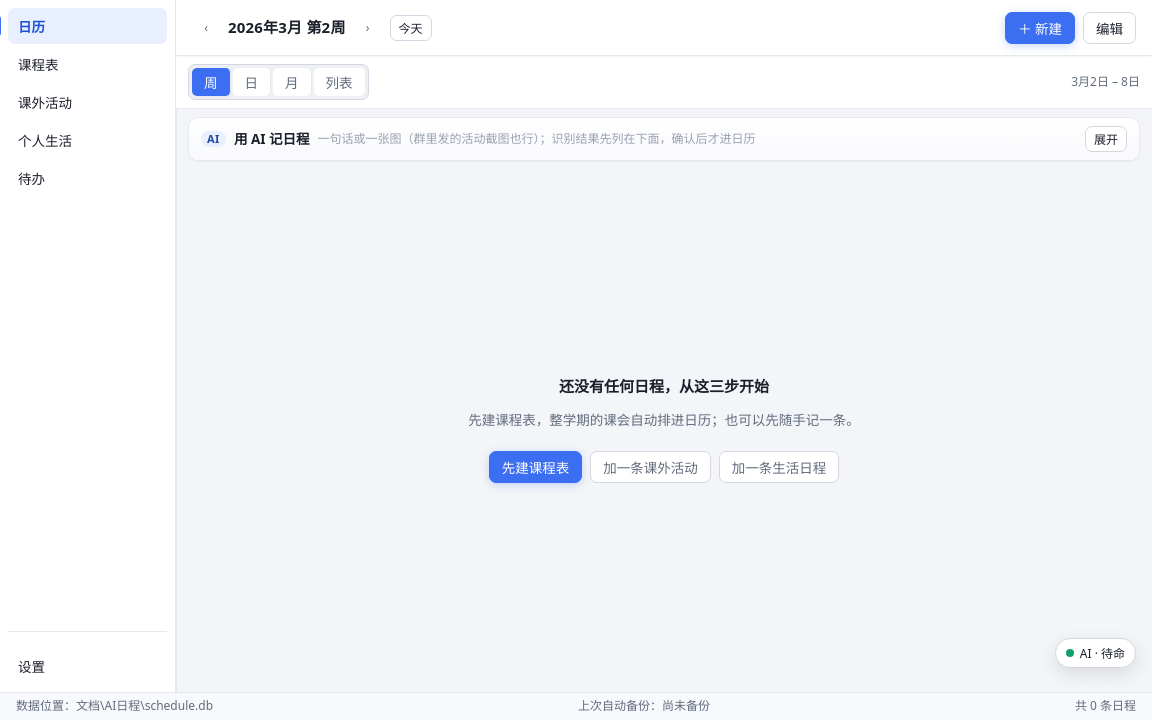
Scenario: 反馈 #1：课程表页新建的课程要立刻显示在课表格里 › 在课表格里双击新建课程后，格子里出现这门课
Click the button "课程表" at (88, 64), box [8,46,167,82]
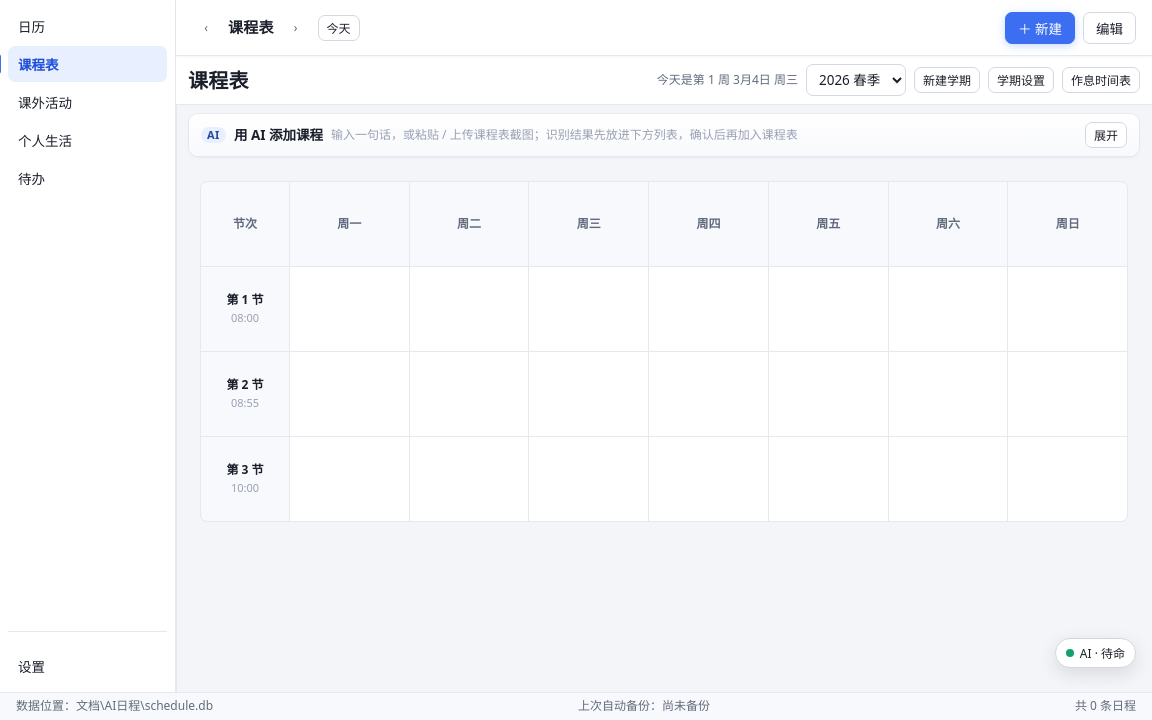
Expected: the element with test id "course-table" is shown, [200,181,1128,522]
Double-click the element with test id "cell-3-2" at (589, 394), box [529,352,648,436]
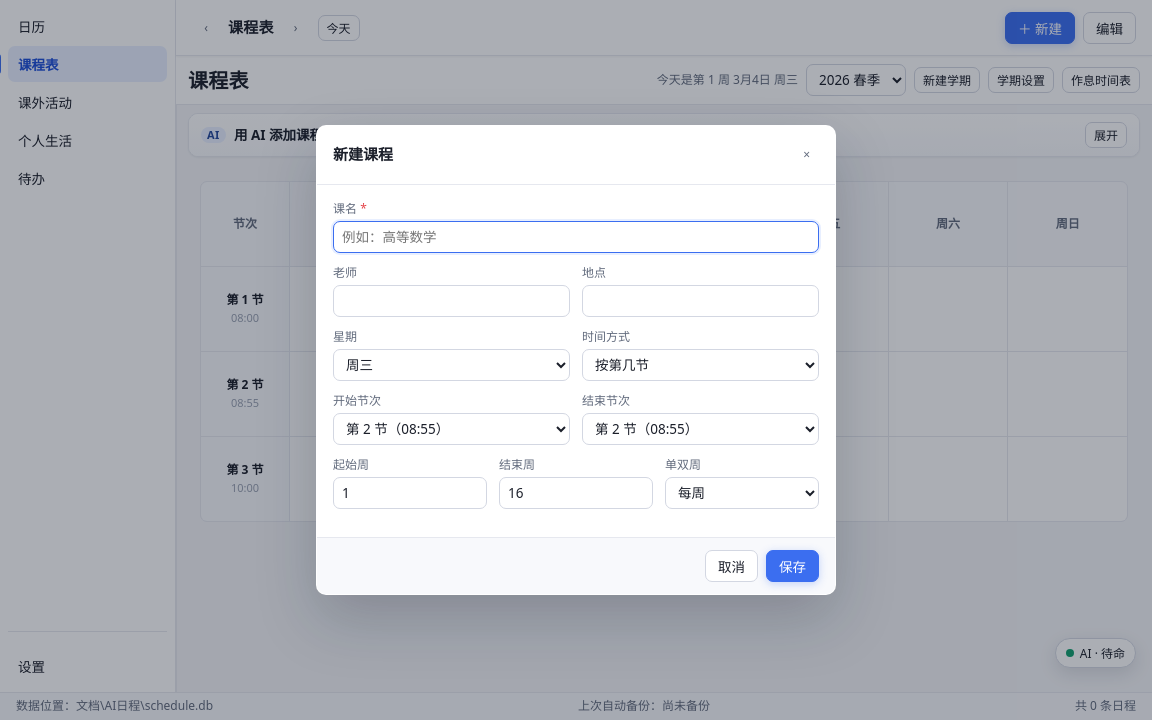
Expected: the dialog is shown, [316,124,836,595]
Type "线性代数" into the field labelled "课名" at (576, 237), box [333,221,819,253]
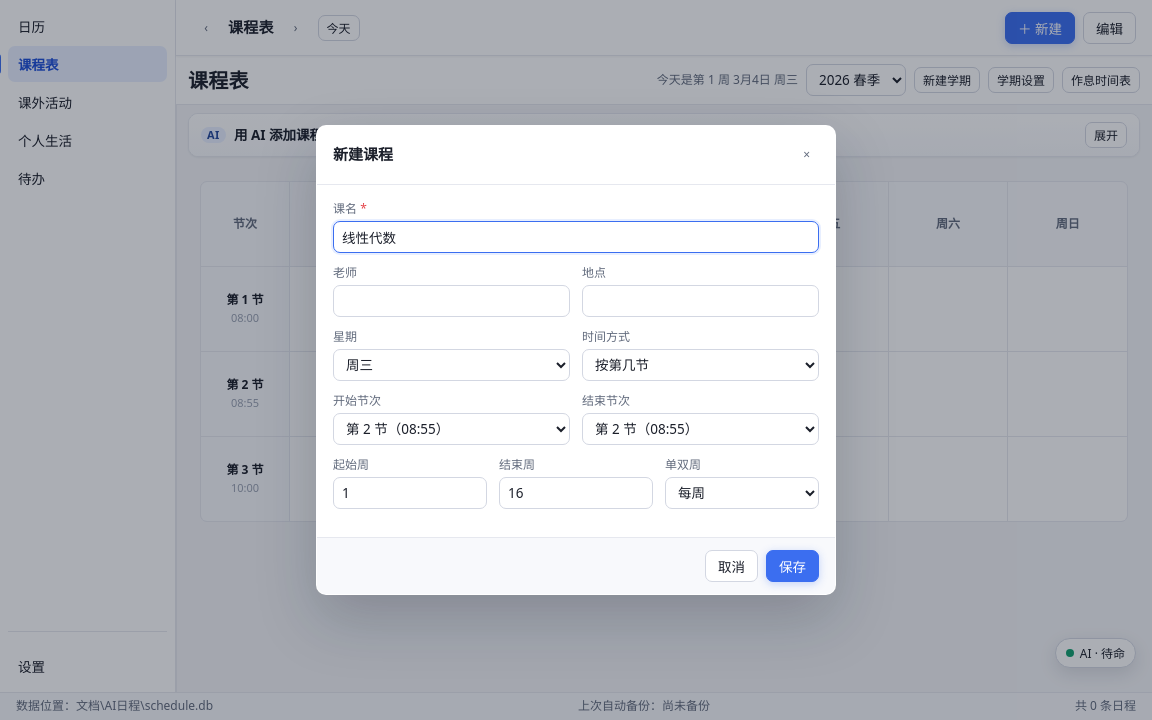
Click the button "保存" at (792, 566), box [766,550,819,582]
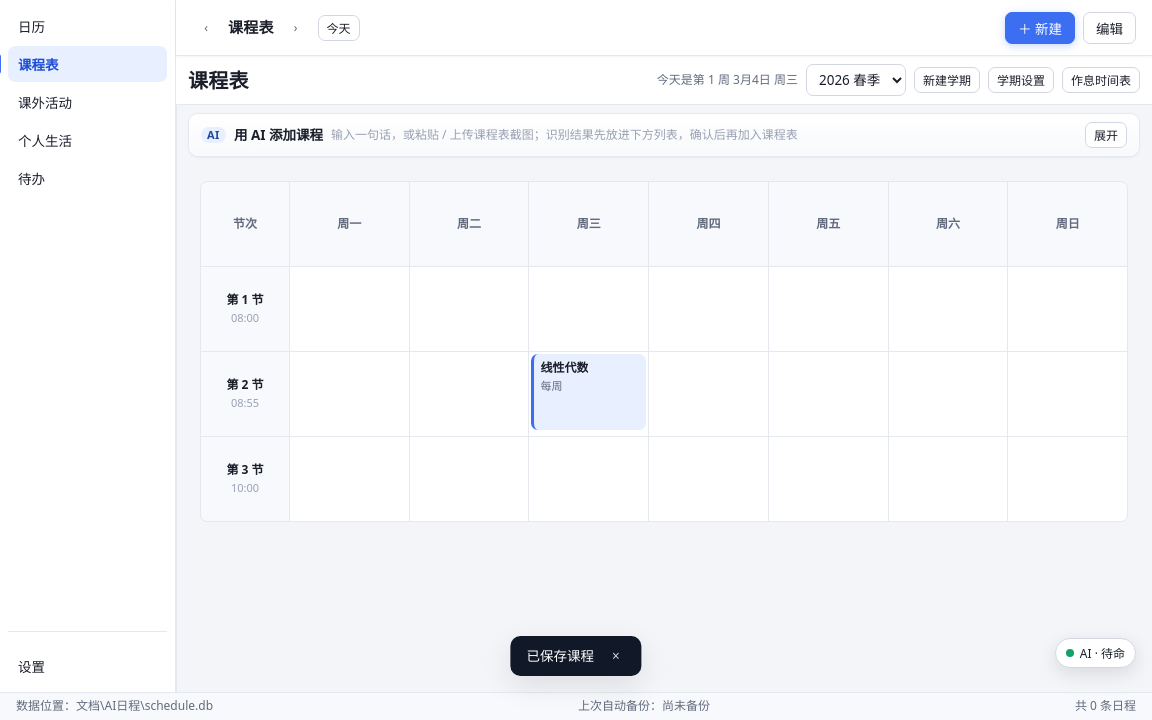
Expected: the button with test id "course-c-" is shown, [531,354,646,430]
